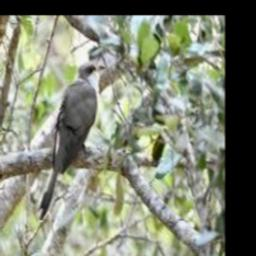Cuckoo: (39, 62, 104, 220)
